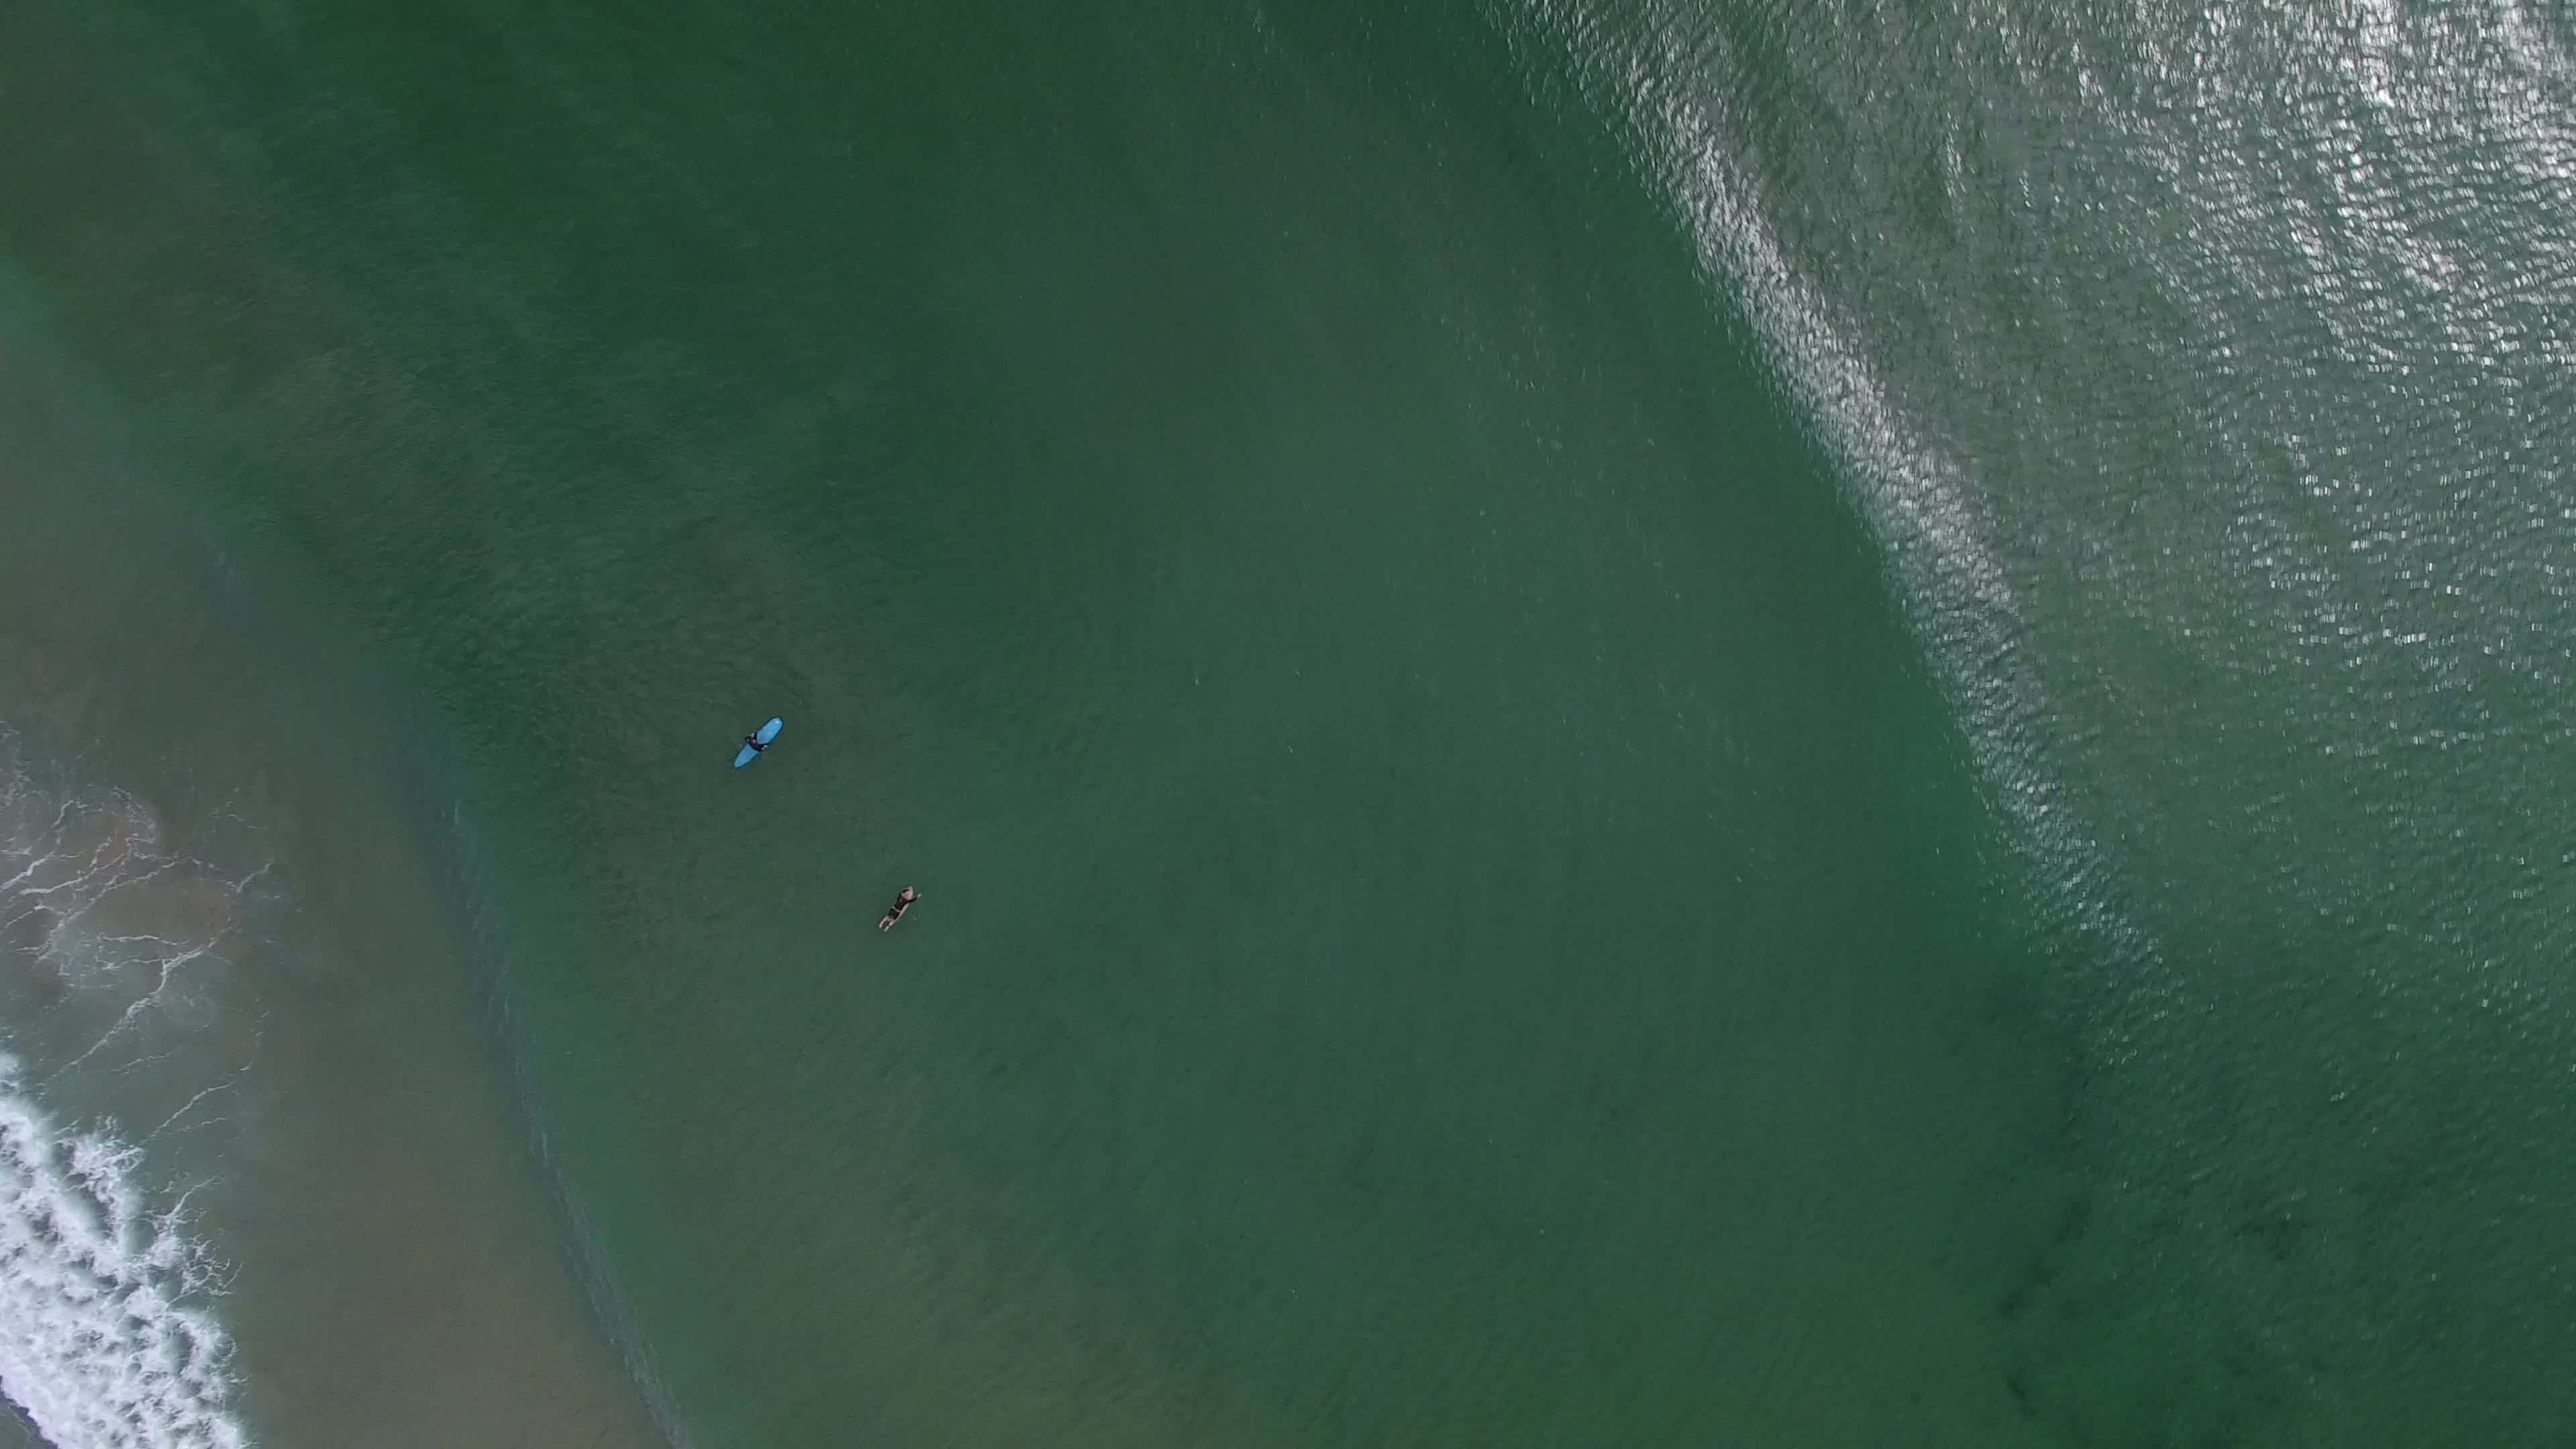surfer: (722, 711, 791, 773), (874, 883, 925, 939)
